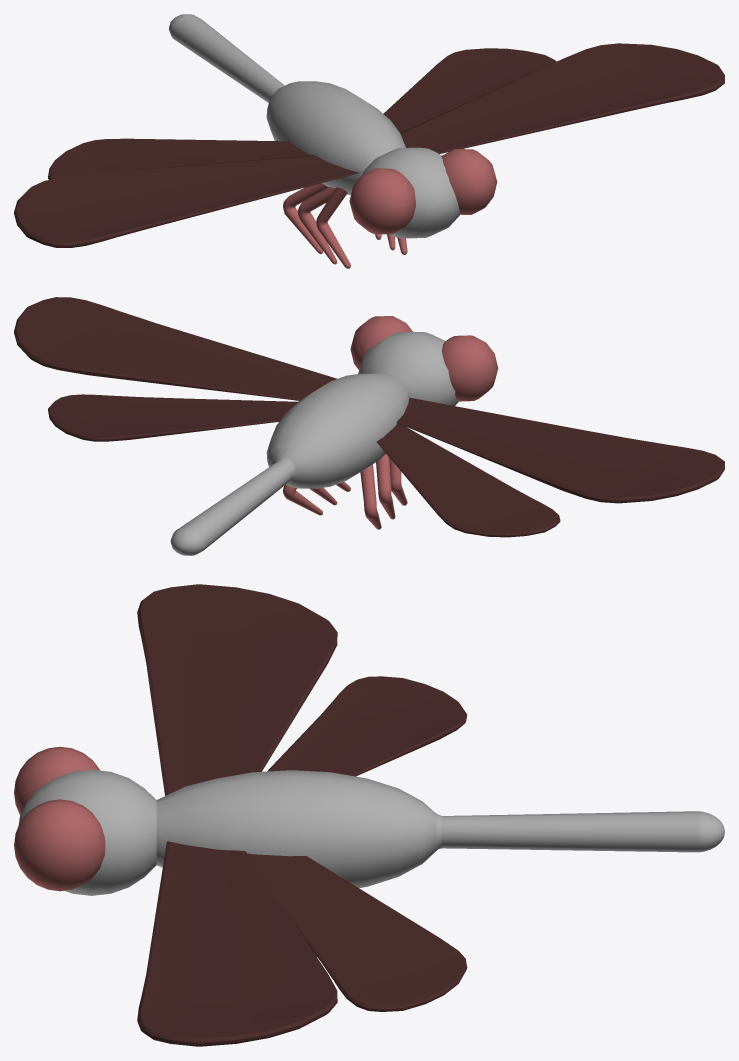
File: dragonflyBlue.fbx
3 renders of one model, top to bottom at view 1: azimuth 30°, elevation 25°; view 2: azimuth 150°, elevation 25°; view 3: azimuth 270°, elevation 25°, orthographic. The views are drawn at different scales.
Visible parts, largest first — view 1: Dragonfly1; view 2: Dragonfly1; view 3: Dragonfly1.
Part boxes in pixels (<box>): Dragonfly1: <box>14,14,724,268</box>; Dragonfly1: <box>14,297,724,555</box>; Dragonfly1: <box>14,584,724,1046</box>.
Size of the model in its own units: 10.34 by 2 by 6.79.
